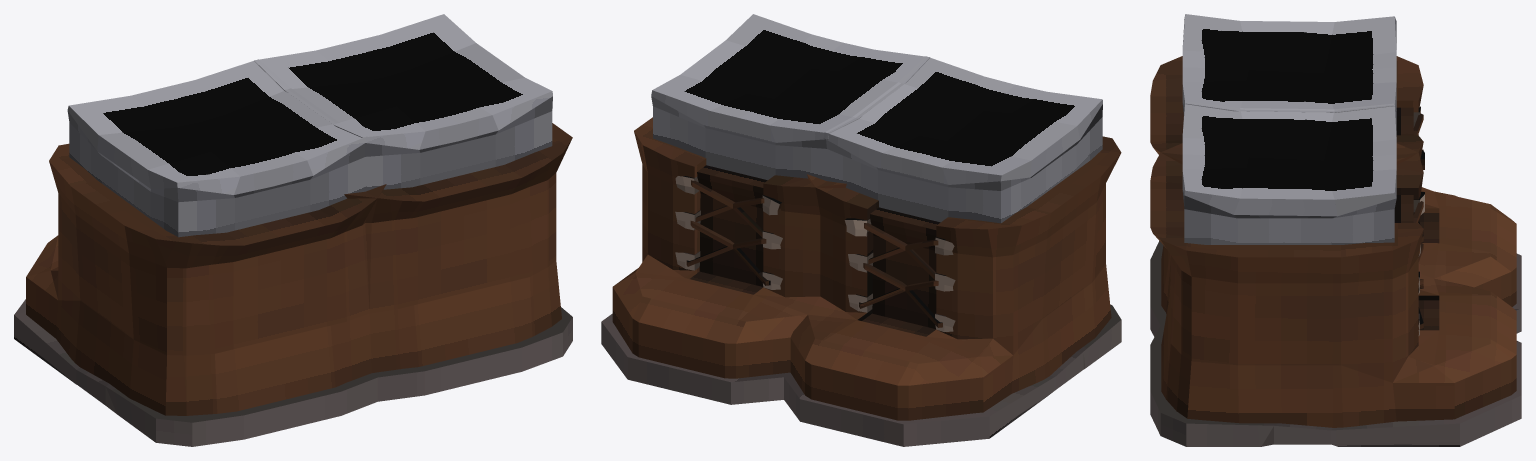
3 views of the same model, side by side, from view 1: azimuth 30°, elevation 25°; view 2: azimuth 150°, elevation 25°; view 3: azimuth 270°, elevation 25° (orthographic). The views are drawn at different scales.
Parts seen in each view (by area): view 1: left_leg, right_leg; view 2: left_leg, right_leg; view 3: right_leg, left_leg.
Boxes of the visible parts, box(x1,y1,x2,y2) form: left_leg: box(14, 59, 386, 446); right_leg: box(254, 14, 572, 401); left_leg: box(784, 56, 1121, 446); right_leg: box(601, 14, 930, 404); right_leg: box(1150, 101, 1521, 446); left_leg: box(1150, 14, 1521, 336).
Size of the model in its own units: 0.575 by 0.3294 by 0.45.
1 material, 1 textured.
